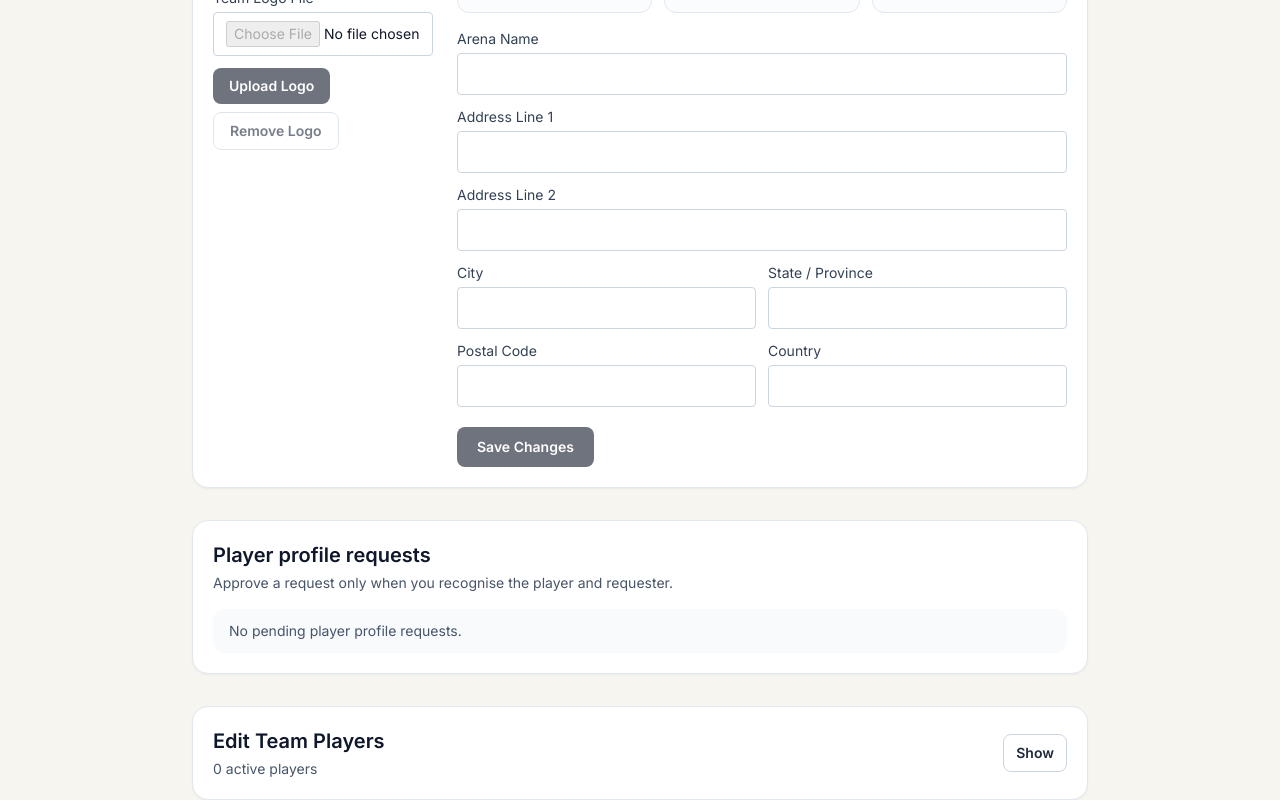
Scenario: EditTeamPage › allows removing a player from the visible roster
The width and height of the screenshot is (1280, 800).
(page scrolled)
Click the button "Show": (1035, 753) [1003,734,1067,772]
(page scrolled)
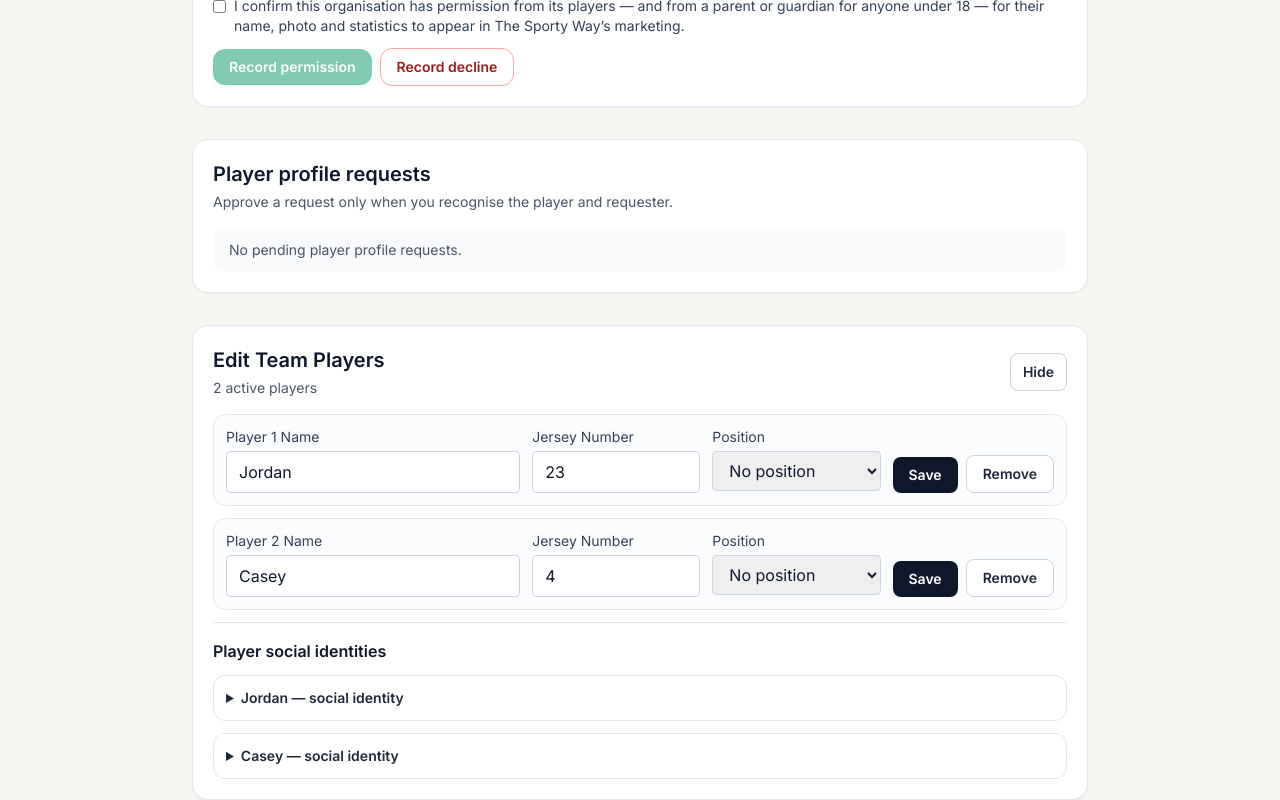
Expected: the field showing "Jordan" is shown, [226,451,520,493]
Expected: the field showing "Casey" is shown, [226,555,520,597]
Click the button with aria-label "Remove player Jordan": (1010, 474) [966,455,1054,493]
(page scrolled)
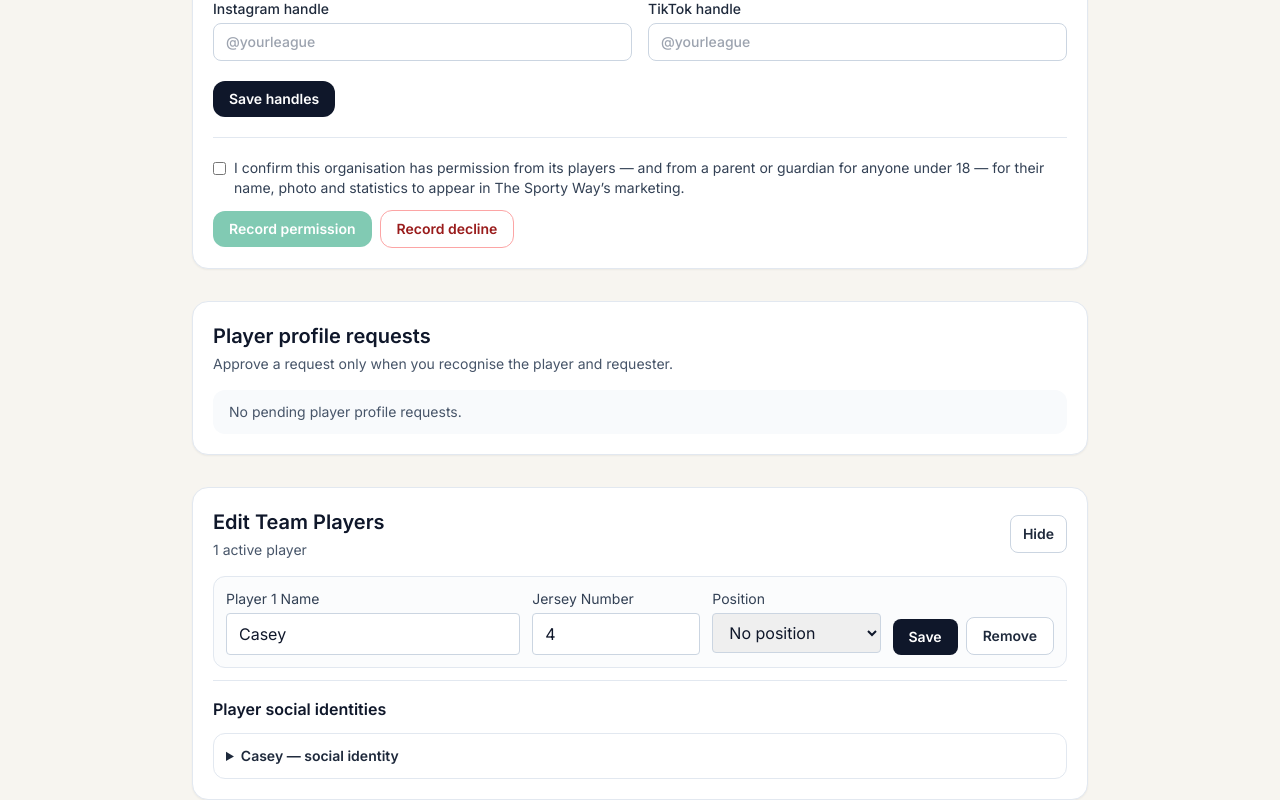
Expected: the field showing "Casey" is shown, [226,613,520,655]
Expected: the heading showing "Jordan" is gone
